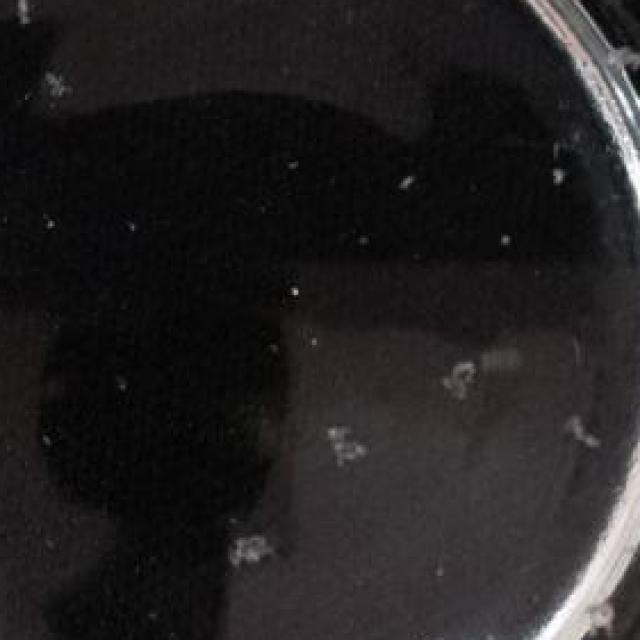Microplastic: (316, 419, 376, 478), (435, 348, 487, 410), (590, 34, 640, 84), (214, 535, 280, 569), (565, 416, 608, 464), (583, 590, 624, 640), (36, 64, 70, 98), (549, 157, 572, 195), (5, 0, 41, 24), (394, 169, 424, 193), (303, 324, 323, 354), (289, 278, 303, 302)
